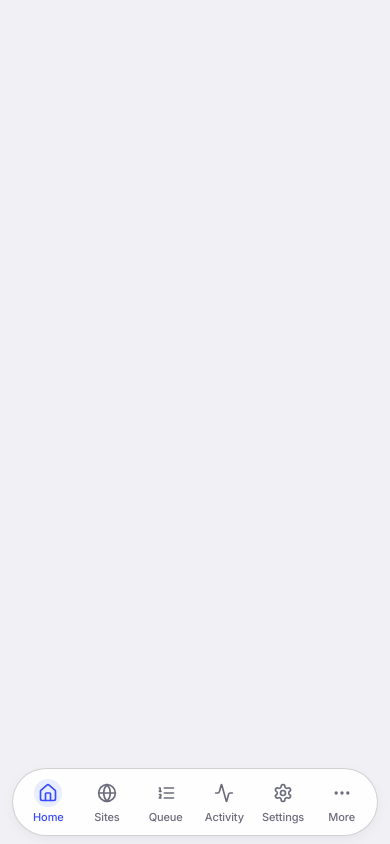
Test case: BottomTabBar — More overflow drawer › opens the drawer with the grouped nav on click
Expected: the link "Capture" is not shown
Click the button "More".
click(342, 802)  # box left=312, top=772, right=371, bottom=831
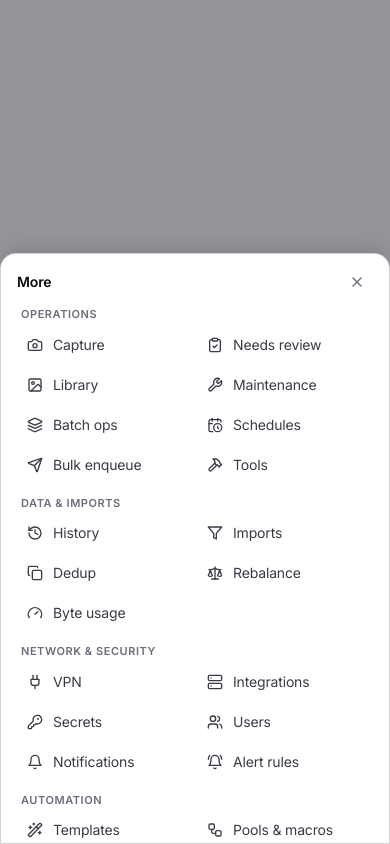
Expected: the text "Network & security" is shown, left=21, top=644, right=156, bottom=658
Expected: the link "Capture" is shown, left=27, top=336, right=105, bottom=353
Expected: the link "VPN" is shown, left=27, top=673, right=82, bottom=690
